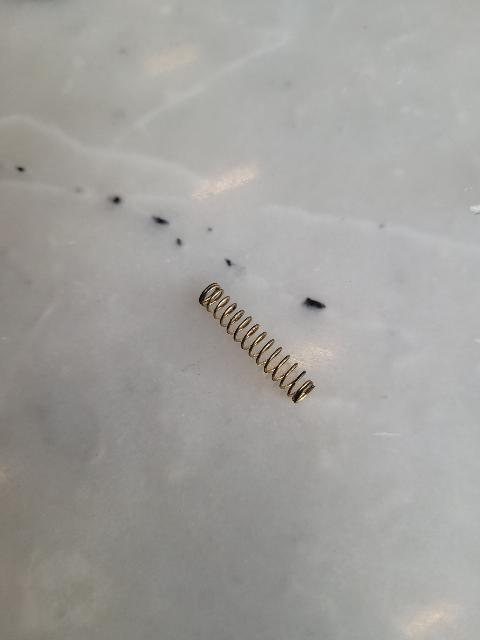Metal: (195, 274, 331, 428)
